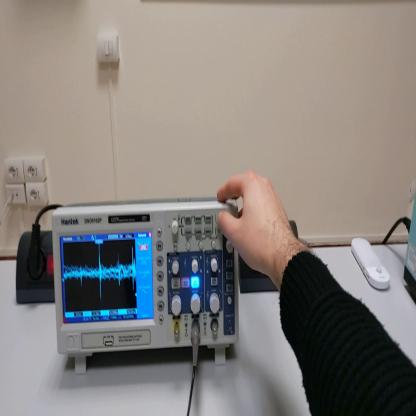hand: (216, 170, 293, 276)
oscilloscope: (53, 199, 240, 378)
socket: (14, 233, 58, 308)
welder station: (406, 187, 416, 307)
